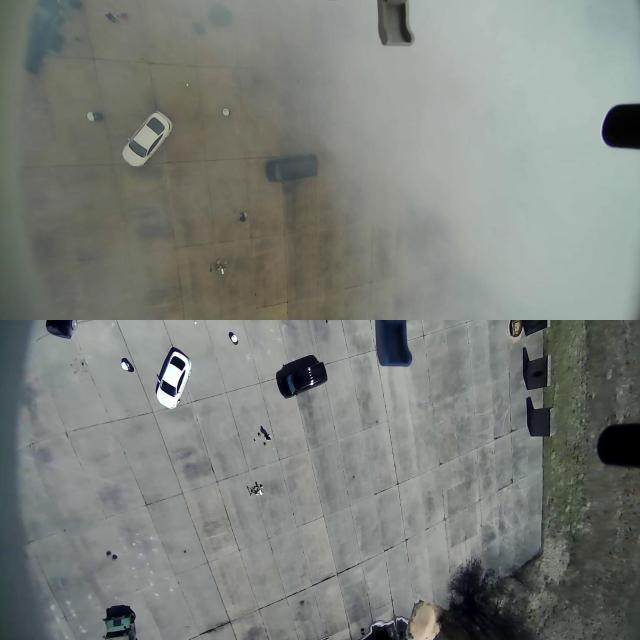car: (266, 353, 339, 402), (120, 110, 173, 167), (153, 346, 192, 410), (260, 151, 324, 190)
